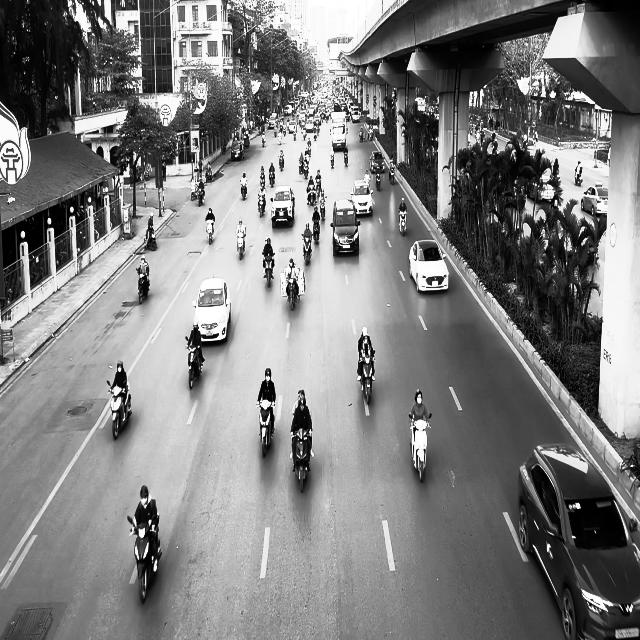car: (516, 443, 640, 639), (192, 277, 231, 343), (408, 239, 449, 293), (330, 199, 360, 256), (270, 186, 295, 228), (581, 182, 608, 215), (350, 179, 374, 216), (369, 151, 385, 173), (230, 141, 245, 161)
motorbike: (127, 515, 162, 604), (408, 412, 432, 482), (106, 379, 132, 440), (290, 428, 312, 492), (256, 400, 275, 457), (185, 338, 202, 390), (359, 352, 375, 405), (136, 266, 150, 304), (286, 276, 299, 310), (262, 253, 274, 287), (301, 233, 312, 264), (144, 228, 157, 250), (236, 231, 245, 260), (398, 209, 407, 235), (257, 192, 266, 217), (206, 219, 214, 244), (312, 219, 320, 244), (574, 167, 583, 186), (240, 181, 248, 200), (375, 169, 381, 191), (389, 164, 395, 184), (198, 186, 204, 206), (268, 170, 275, 187), (278, 154, 284, 171), (330, 148, 334, 168), (344, 148, 348, 166)
